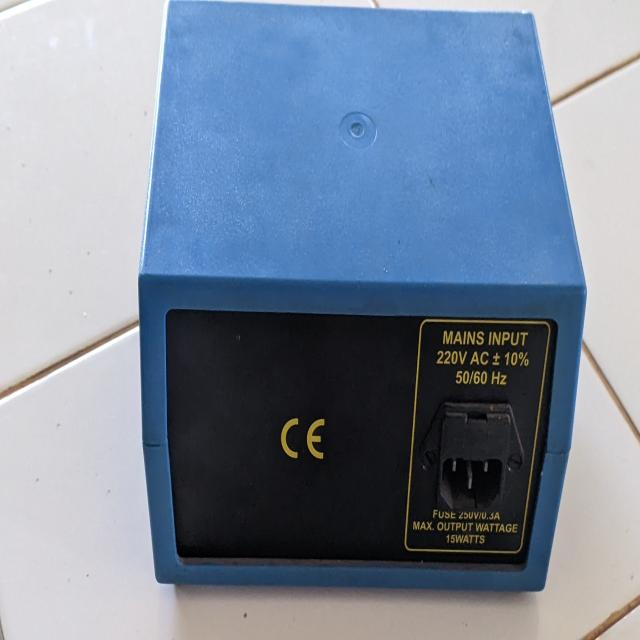Low Voltage AC-DC Power Supply 12 V: (128, 1, 598, 606)
